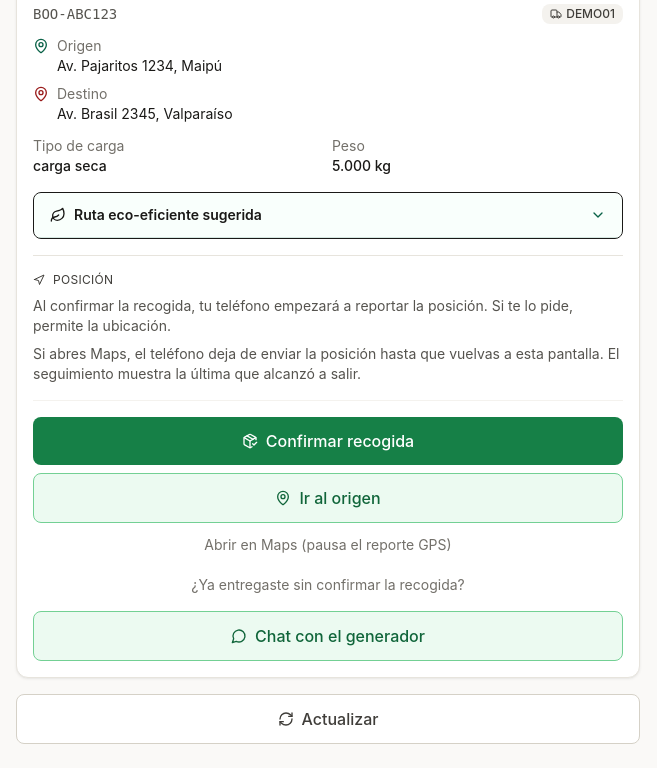
Test: ConductorDashboardRoute — acciones del servicio › sin ruta eco: Maps cae al texto de la dirección y el panel lo dice
This screenshot has width=657, height=768.
(page scrolled)
Click the button with test id "navegar-origen".
click(328, 498)  # box top-left (33, 472), bottom-right (623, 522)
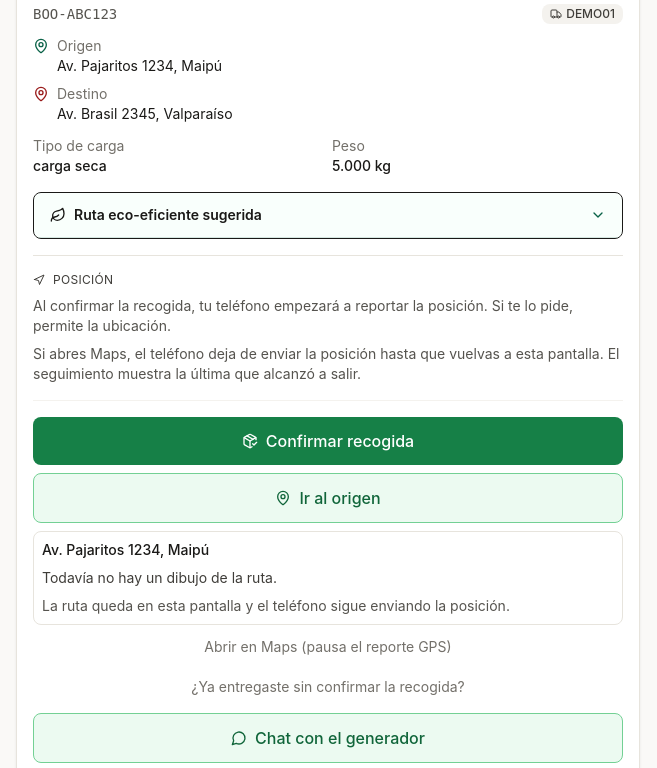
Now the element with test id "ruta-en-app" shows "Av. Pajaritos 1234", box top-left (42, 540), bottom-right (209, 558)
Now the text with test id "ruta-en-app-sin-dibujo" reads "Todavía no hay un dibujo de la ruta.", box top-left (42, 568), bottom-right (277, 586)
